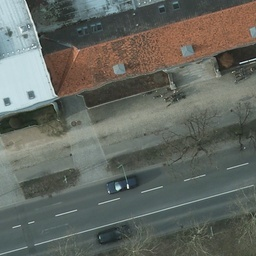car: (97, 224, 133, 244), (108, 174, 139, 195)
